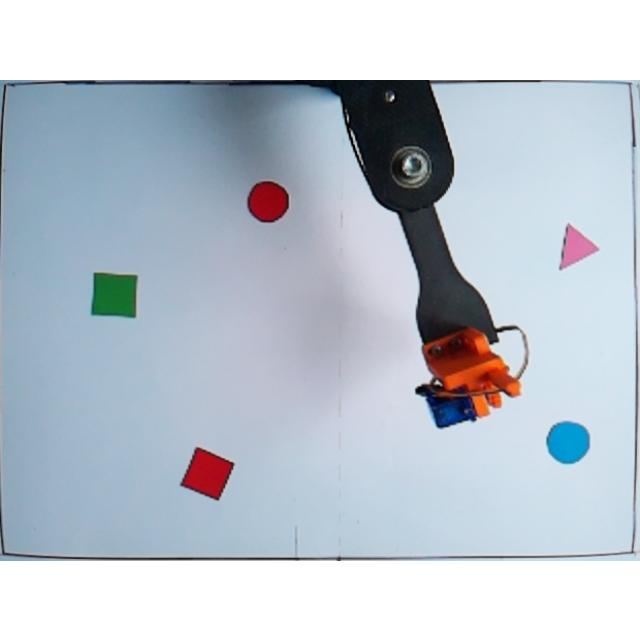blueCircle: (545, 418, 591, 464)
greenSquare: (91, 270, 139, 318)
pinkTriangle: (558, 221, 602, 273)
redCircle: (248, 178, 290, 225)
redSquare: (181, 446, 235, 500)
